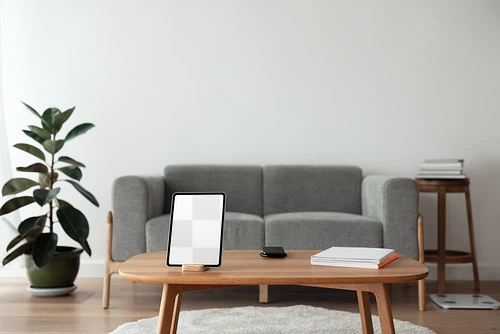large plant: (2, 97, 99, 298)
side table: (417, 179, 482, 297)
sofa: (102, 161, 426, 315)
table: (117, 247, 430, 334)
